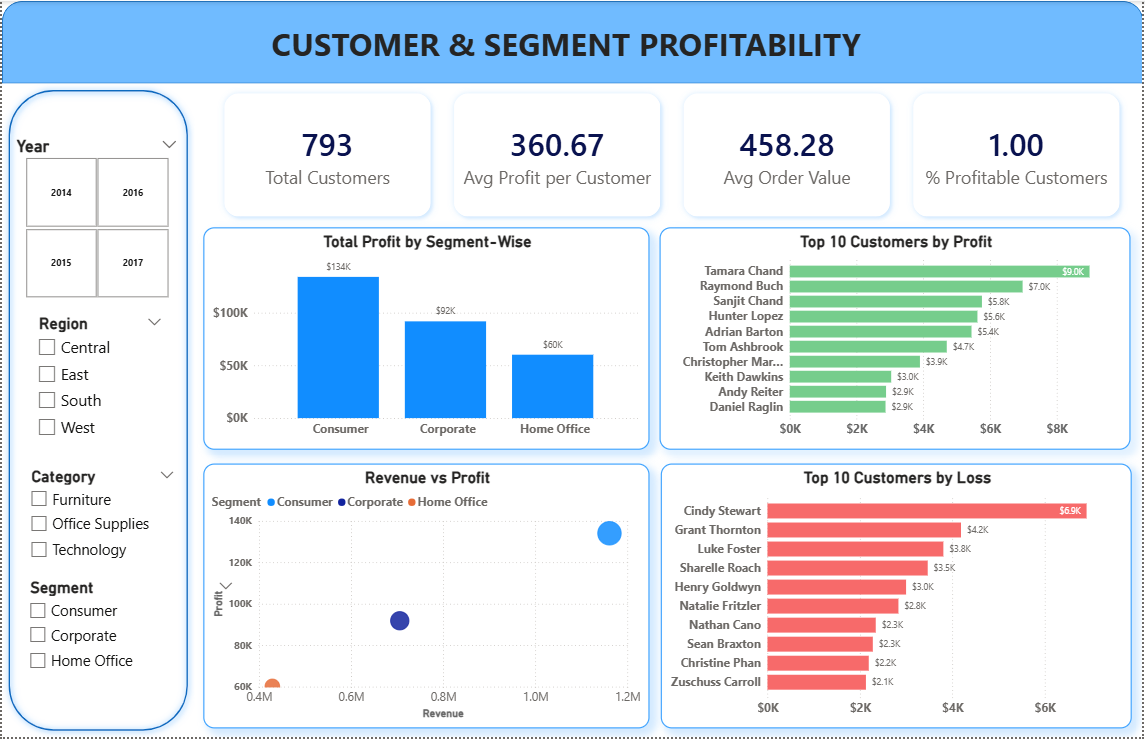

The page's visual inventory and layout, read from the dashboard file:
{"tool":"powerbi","page":{"name":"Profitability","canvas":[1550,1000],"ordinal":1},"visuals":[{"type":"shape","box":[0,0,1550.6,112.1],"z":0},{"type":"textbox","box":[208.9,23.8,1115.8,73],"z":1000},{"type":"shape","box":[0,112.1,261.6,888.3],"z":2000},{"type":"cardVisual","fields":{"Data":["_measures.Total Customers","_measures.Avg Profit per Customer","_measures.Avg Order Value","_measures.% Profitable Customers"]},"box":[273.4,96.8,1277.2,225.9],"z":3000},{"type":"clusteredColumnChart","title":"Total Profit by Segment-Wise","fields":{"Y":["_measures.Total Profit"],"Category":["SampleSuperstore_clean1 csv.Segment"]},"box":[273.4,307.4,606.3,302.3],"z":4000},{"type":"clusteredBarChart","title":"Top 10 Customers by Profit","fields":{"Category":["SampleSuperstore_clean1 csv.Customer Name"],"Y":["_measures.Total Profit"]},"box":[893.3,307.4,640.3,302.3],"z":5000},{"type":"clusteredBarChart","title":"Top 10 Customers by Loss","fields":{"Category":["SampleSuperstore_clean1 csv.Customer Name"],"Y":["_measures.Total Loss"]},"box":[895,628.4,640.3,360.1],"z":6000},{"type":"scatterChart","title":"Revenue vs Profit","fields":{"X":["Sum(SampleSuperstore_clean1 csv.Sales)"],"Y":["Sum(SampleSuperstore_clean1 csv.Profit)"],"Size":["Count(SampleSuperstore_clean1 csv.Order ID)"],"Series":["SampleSuperstore_clean1 csv.Segment"]},"box":[273.4,628.4,606.3,360.1],"z":7000},{"type":"slicer","title":"Year","fields":{"Values":["SampleSuperstore_clean1 csv.Year"]},"box":[6.8,178.3,242.9,231],"z":8000},{"type":"slicer","fields":{"Values":["SampleSuperstore_clean1 csv.Region"]},"box":[37.4,421.2,191.9,207.2],"z":9000},{"type":"slicer","fields":{"Values":["SampleSuperstore_clean1 csv.Category"]},"box":[27.2,628.4,219.1,197],"z":10000},{"type":"slicer","fields":{"Values":["SampleSuperstore_clean1 csv.Segment"]},"box":[25.5,779.6,300.6,168.1],"z":11000}]}

Visuals, with their boxes in screenshot pixels (x1, y1, x2, y2), scaled from the page's 1550x1000 canvas onto the 1145x740 screenshot:
shape: rect(0, 0, 1144, 83)
textbox: rect(154, 18, 979, 72)
shape: rect(0, 83, 193, 739)
cardVisual - _measures.Total Customers x _measures.Avg Profit per Customer: rect(202, 72, 1144, 239)
"Total Profit by Segment-Wise" clusteredColumnChart: rect(202, 227, 650, 451)
"Top 10 Customers by Profit" clusteredBarChart: rect(660, 227, 1133, 451)
"Top 10 Customers by Loss" clusteredBarChart: rect(661, 465, 1134, 731)
"Revenue vs Profit" scatterChart: rect(202, 465, 650, 731)
"Year" slicer: rect(5, 132, 184, 303)
slicer - SampleSuperstore_clean1 csv.Region: rect(28, 312, 169, 465)
slicer - SampleSuperstore_clean1 csv.Category: rect(20, 465, 182, 611)
slicer - SampleSuperstore_clean1 csv.Segment: rect(19, 577, 241, 701)
